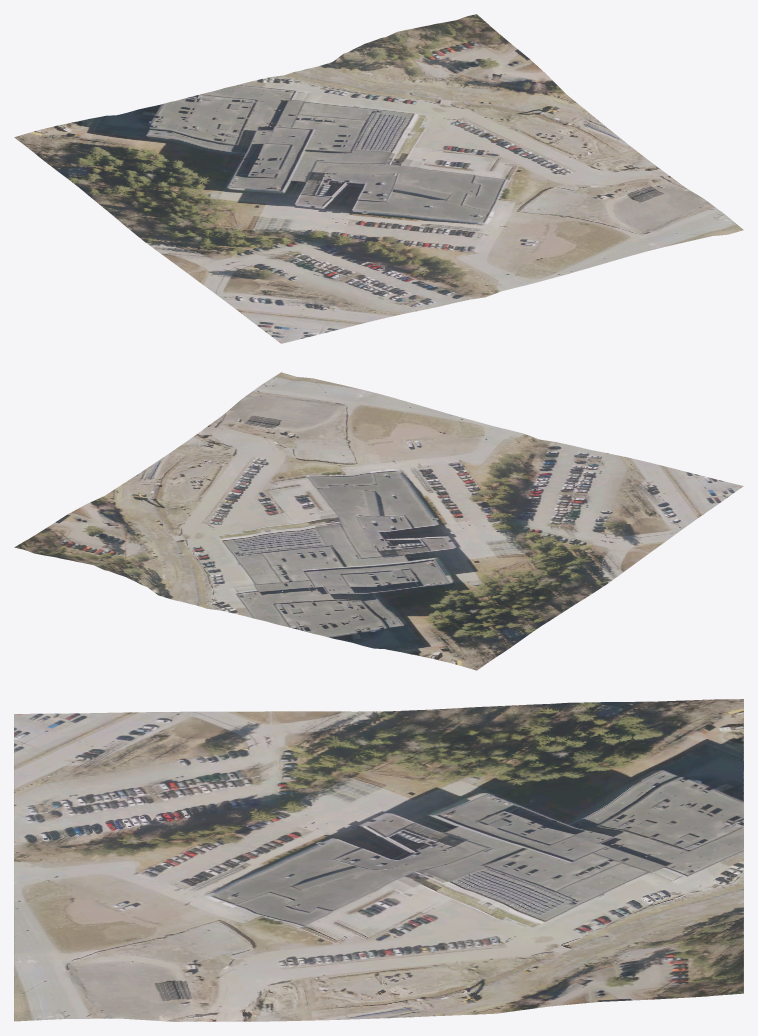
File: CM_Terrain_24490458_6821841.fbx
The picture shows the model from 3 angles, top to bottom: view 1: azimuth 30°, elevation 25°; view 2: azimuth 150°, elevation 25°; view 3: azimuth 270°, elevation 25°; orthographic projection. The views are drawn at different scales.
Parts seen in each view (by area): view 1: CM_Terrain_24490458_6821841_LOD0; view 2: CM_Terrain_24490458_6821841_LOD0; view 3: CM_Terrain_24490458_6821841_LOD0.
Boxes of the visible parts, left/top/right/bottom form: CM_Terrain_24490458_6821841_LOD0: left=14, top=14, right=743, bottom=343; CM_Terrain_24490458_6821841_LOD0: left=14, top=372, right=743, bottom=670; CM_Terrain_24490458_6821841_LOD0: left=14, top=699, right=743, bottom=1021.
Size of what is drawn, in the model's own units: 205 by 11.3 by 205.
